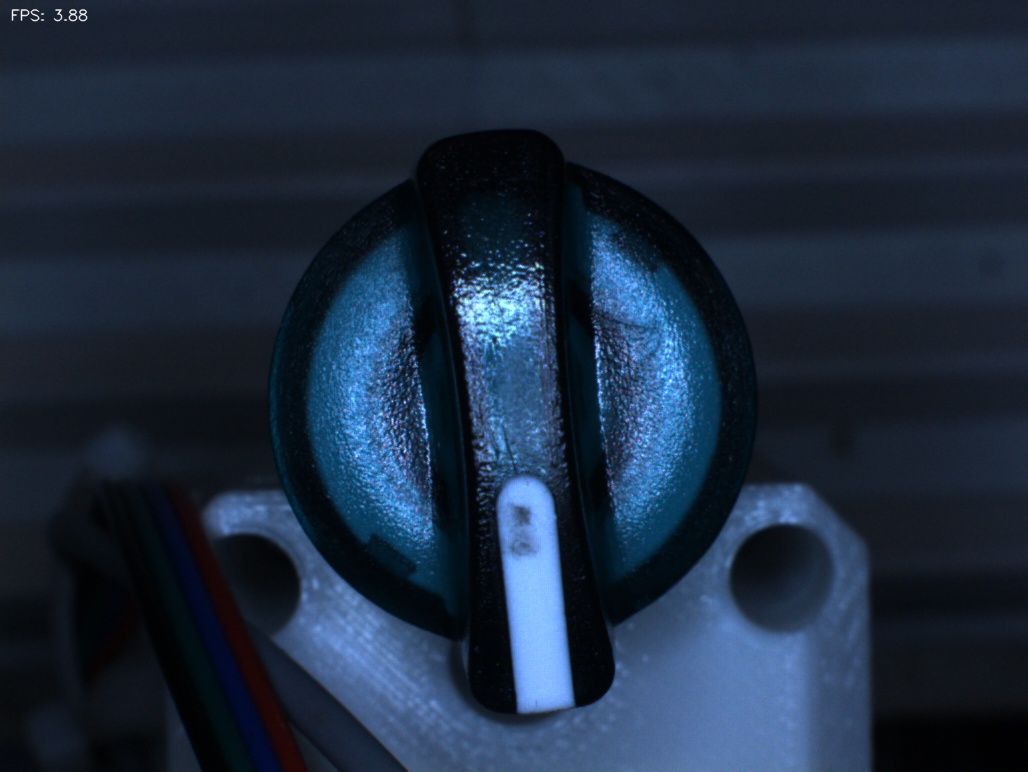PointNoir: (472, 477, 571, 575)
